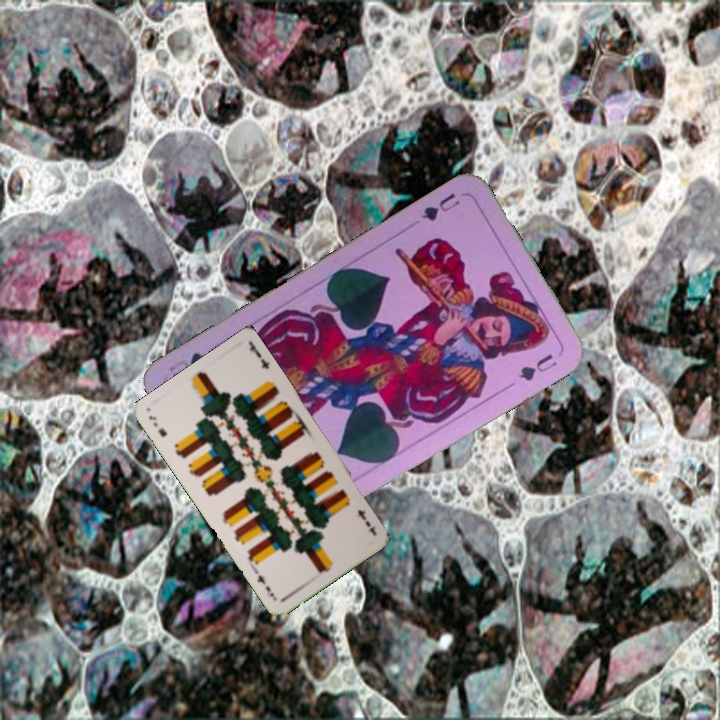E7: (144, 411, 169, 439), (353, 506, 373, 529)
GU: (416, 188, 463, 224)
